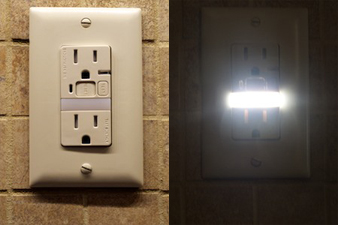outlet: (240, 104, 272, 140), (70, 111, 102, 146), (70, 47, 101, 81), (241, 43, 270, 78)
